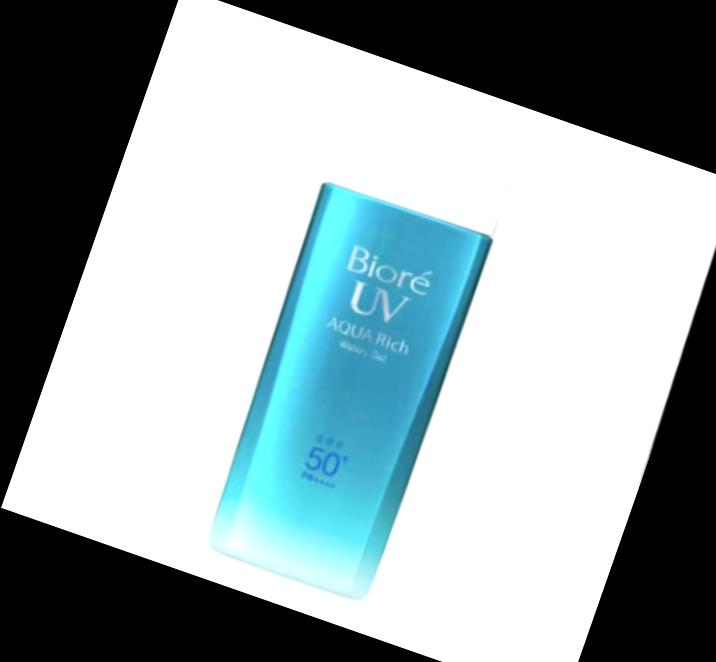cosmetic: (185, 65, 540, 609)
